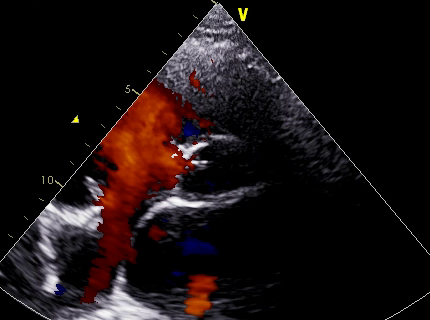TR: (130, 139, 204, 243)
